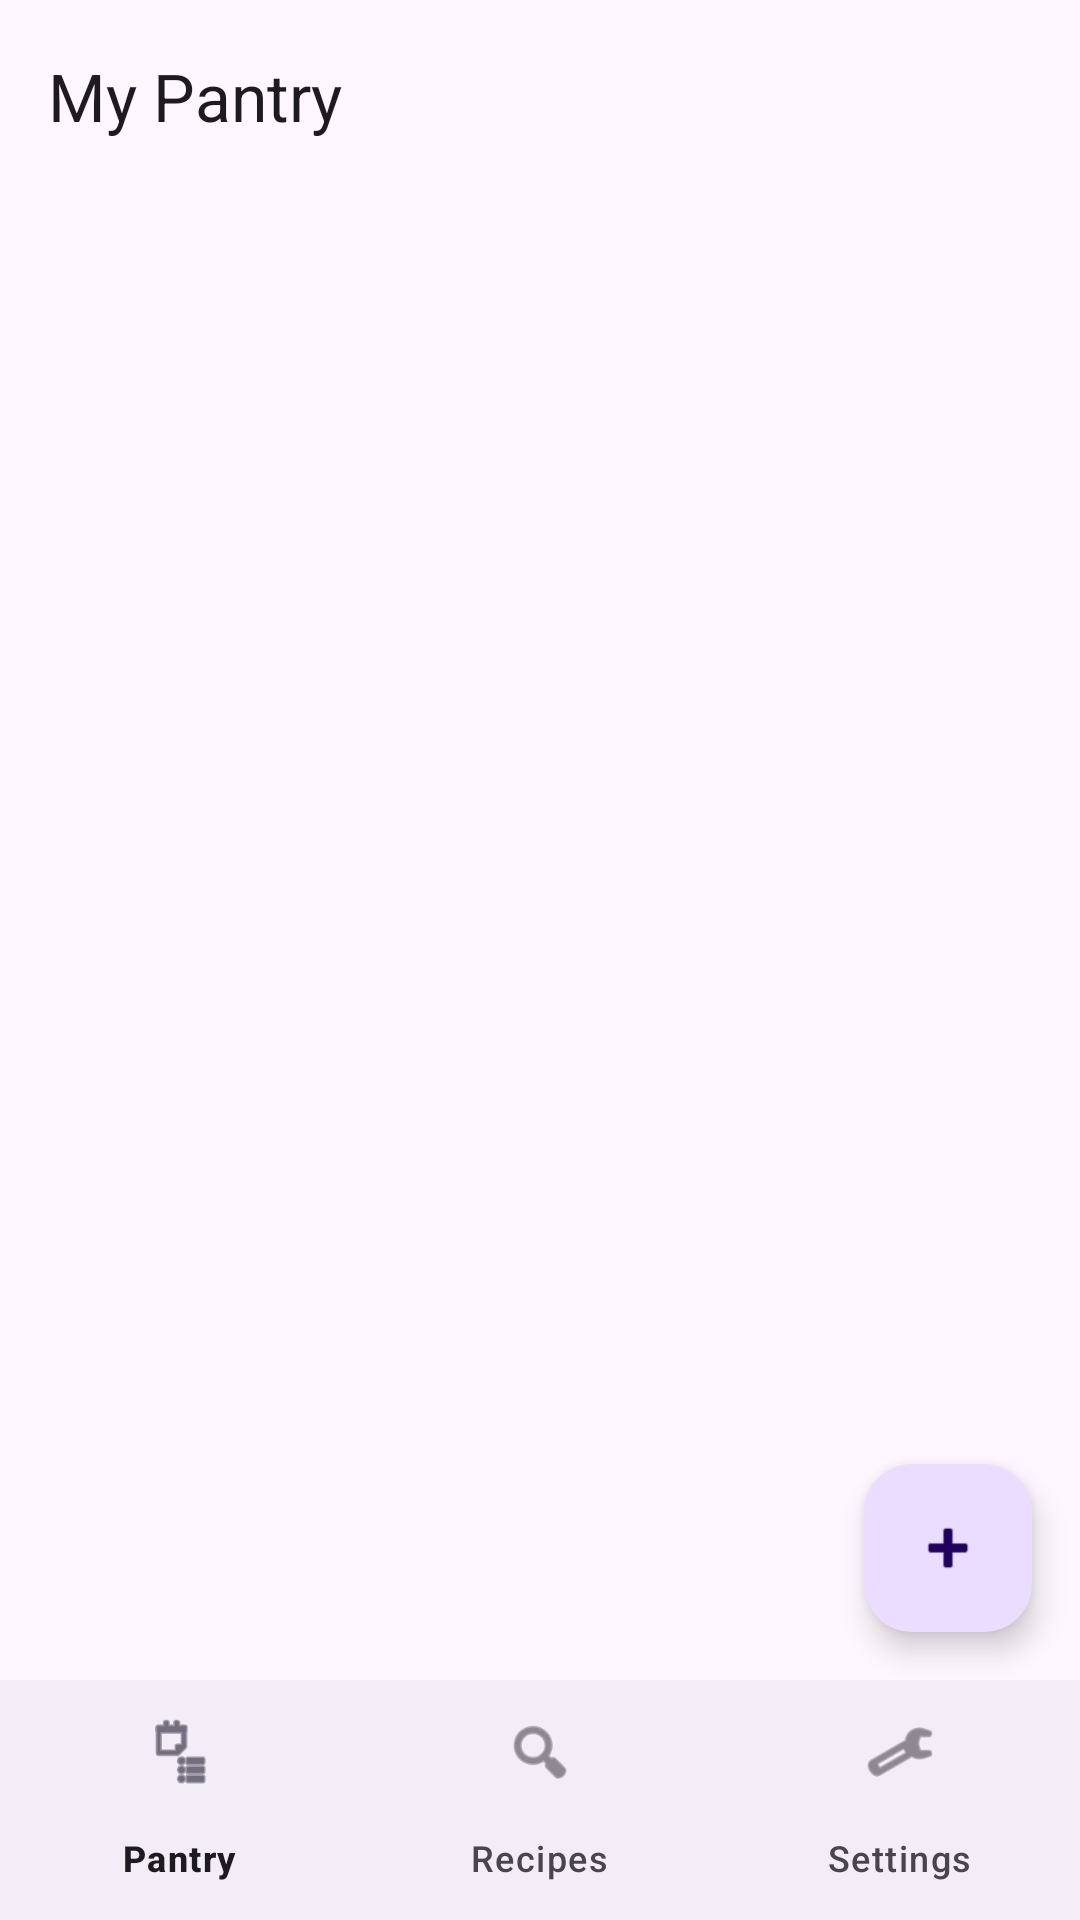

Icons on this 1080 × 1920 Android screen, each with its box as (x1, y1, x2, y2):
Add ingredient: (864, 1464, 1032, 1632)
